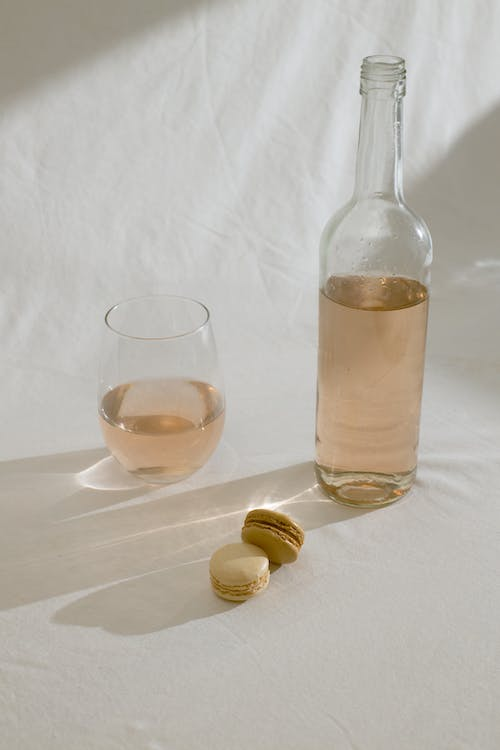alcohol: (309, 51, 437, 512), (92, 291, 229, 488)
